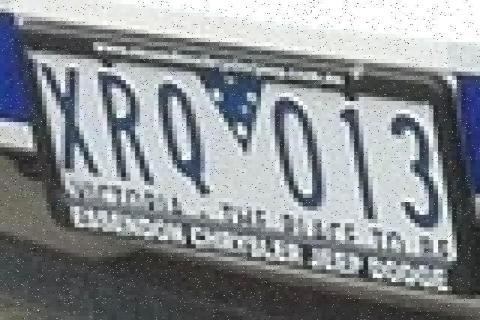LicensePlate: (23, 37, 476, 293)
